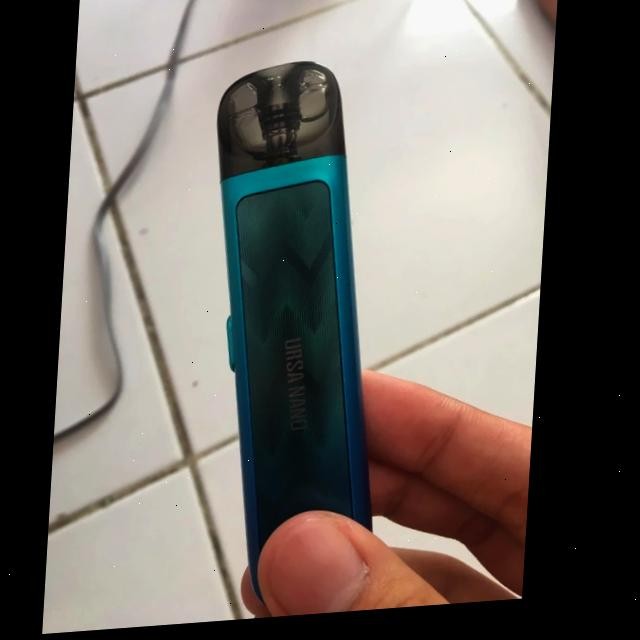vape: (192, 61, 402, 627)
